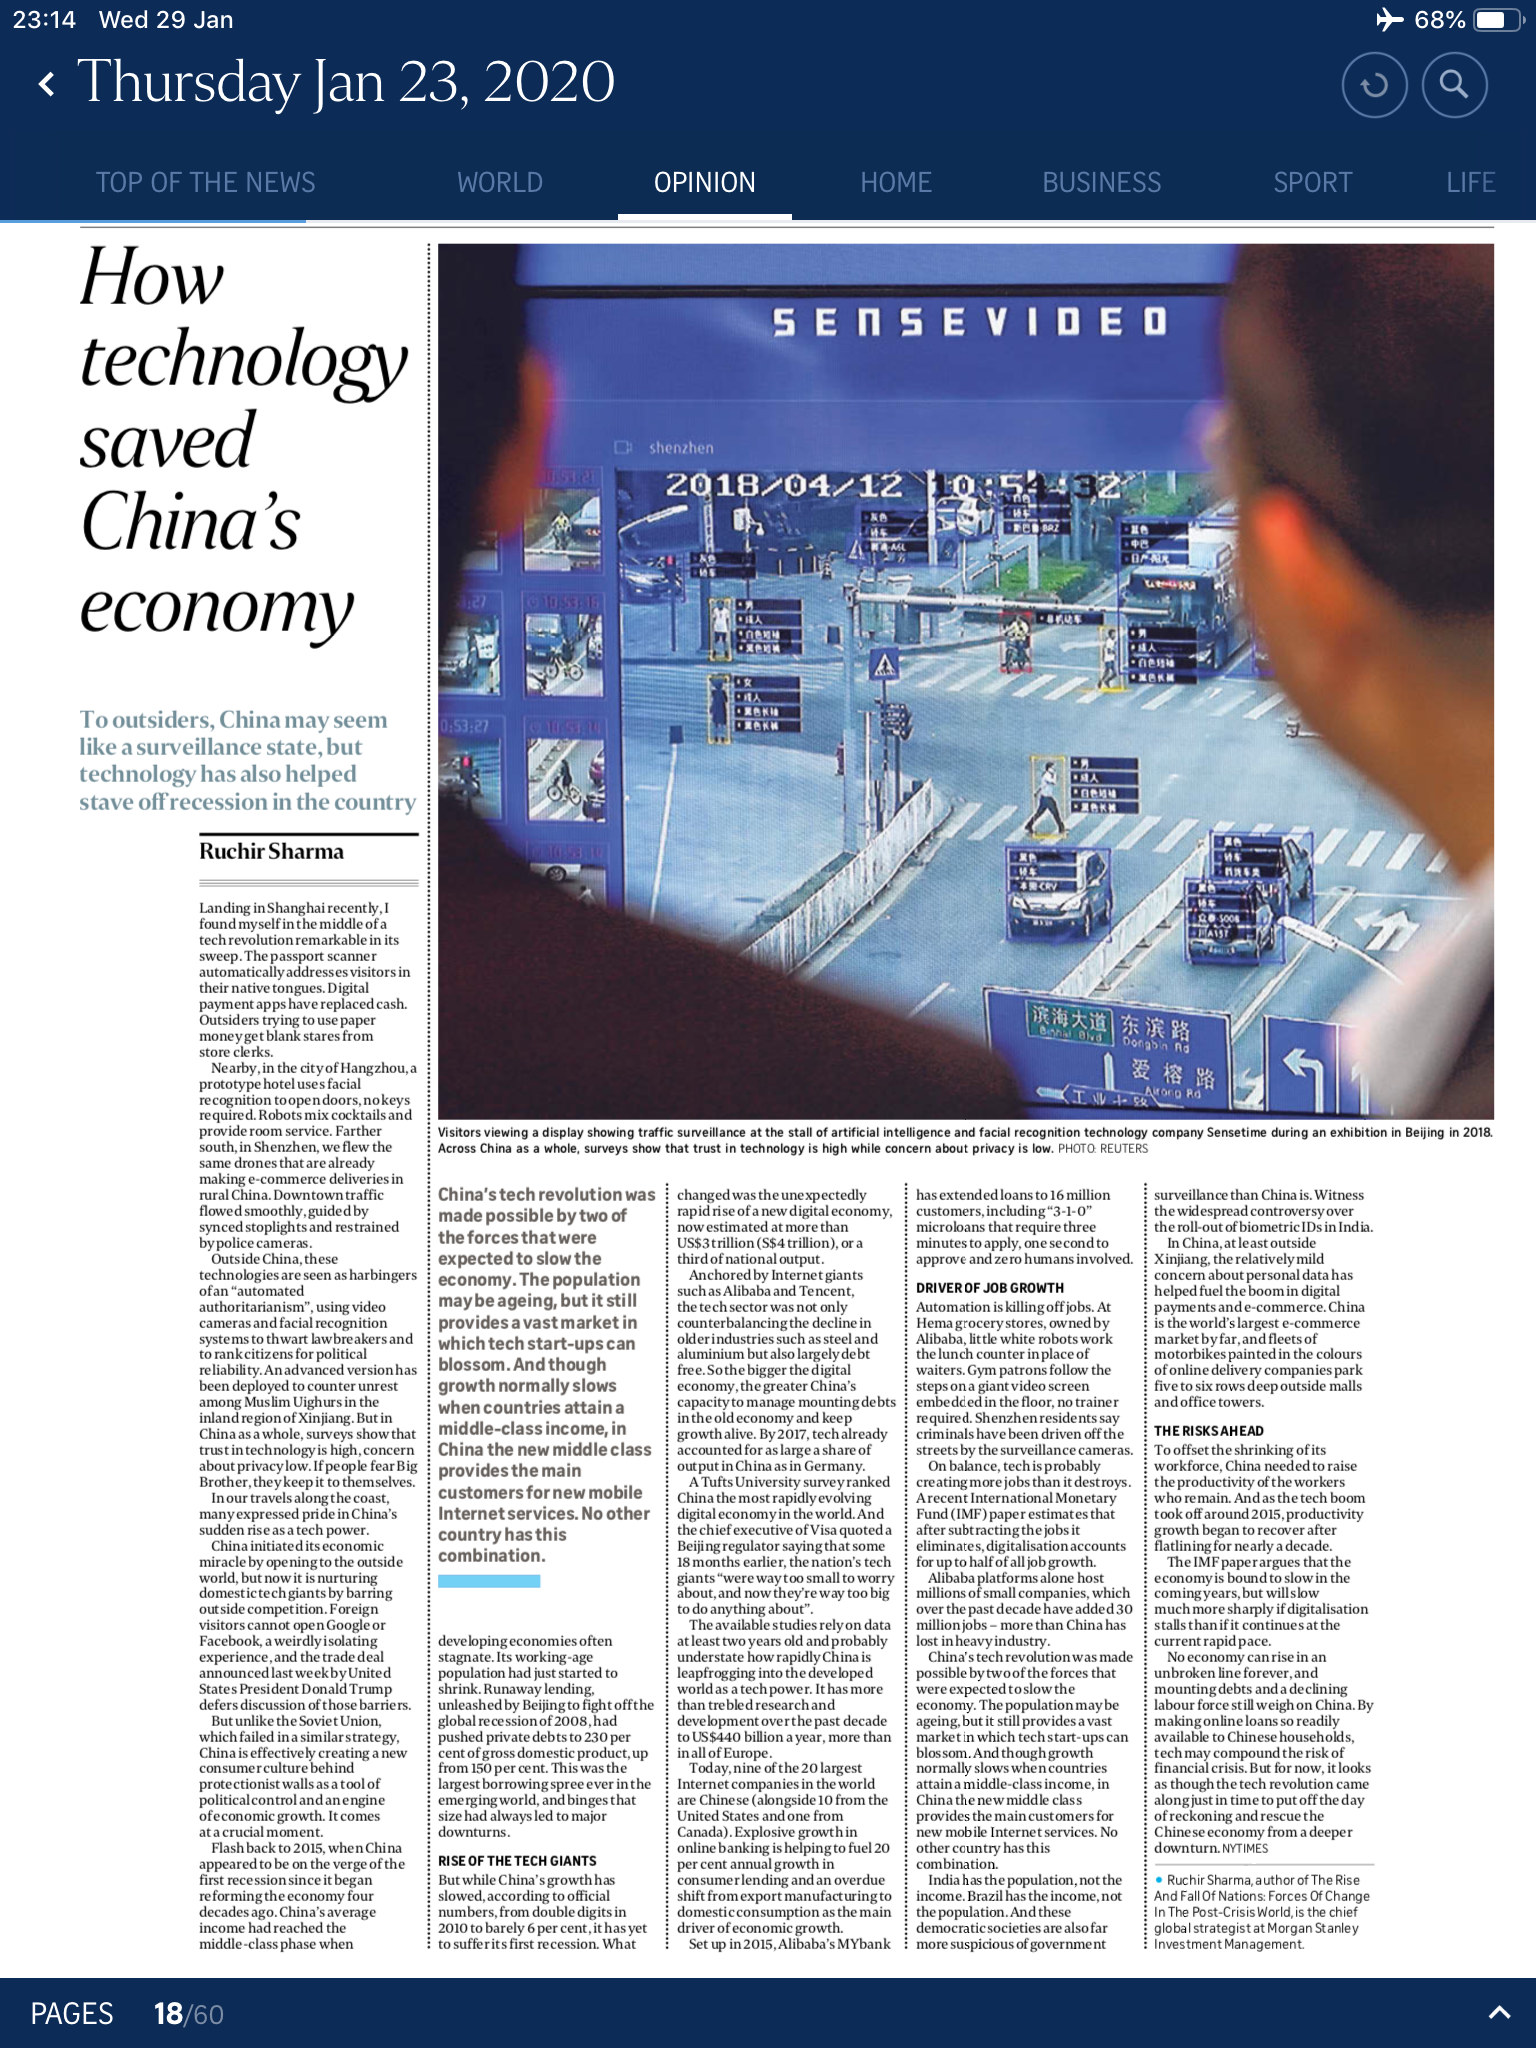Byline: (195, 835, 353, 871)
Headline: (74, 235, 407, 653)
Illustration: (434, 1124, 1489, 1163)
Image: (437, 244, 1494, 1118)
Text: (195, 897, 410, 1958), (434, 1184, 653, 1948), (915, 1185, 1133, 1954), (678, 1185, 895, 1951), (1150, 1184, 1379, 1859)
